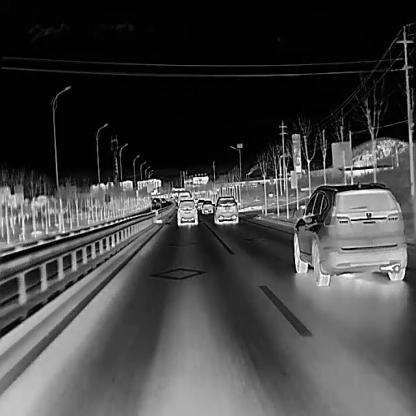car: (292, 178, 407, 285), (213, 194, 237, 224), (175, 198, 197, 226), (177, 191, 190, 206), (200, 199, 213, 213), (161, 198, 166, 203)
